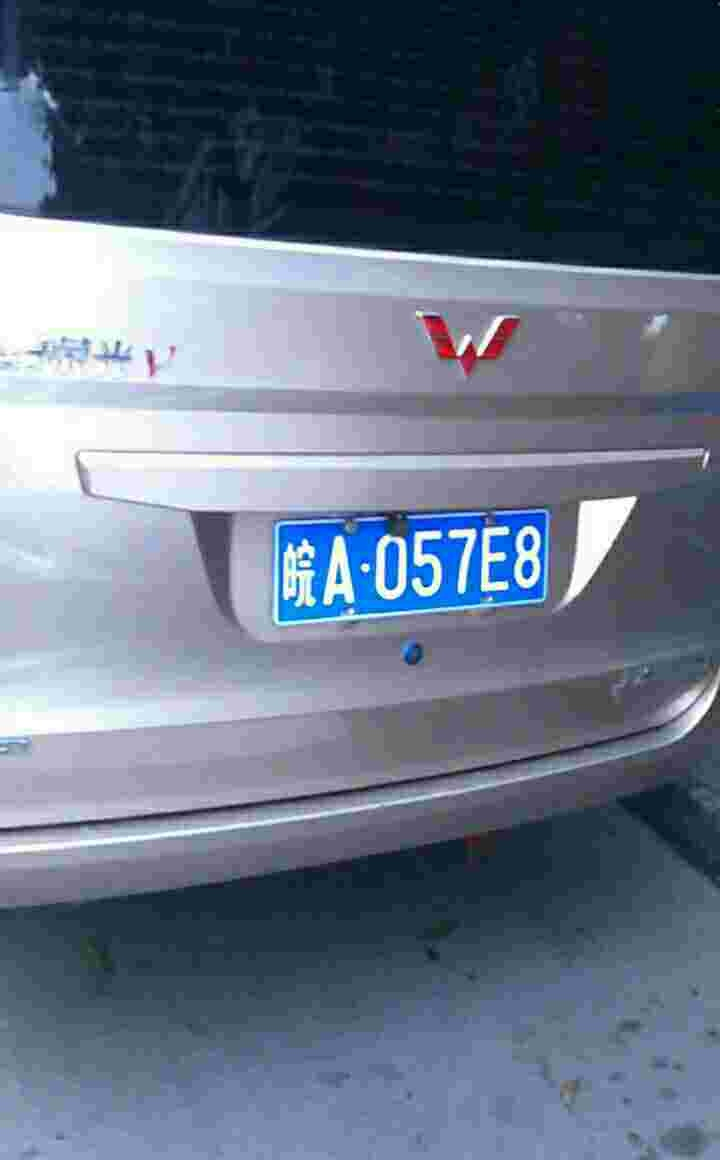car: (269, 515, 553, 612)
